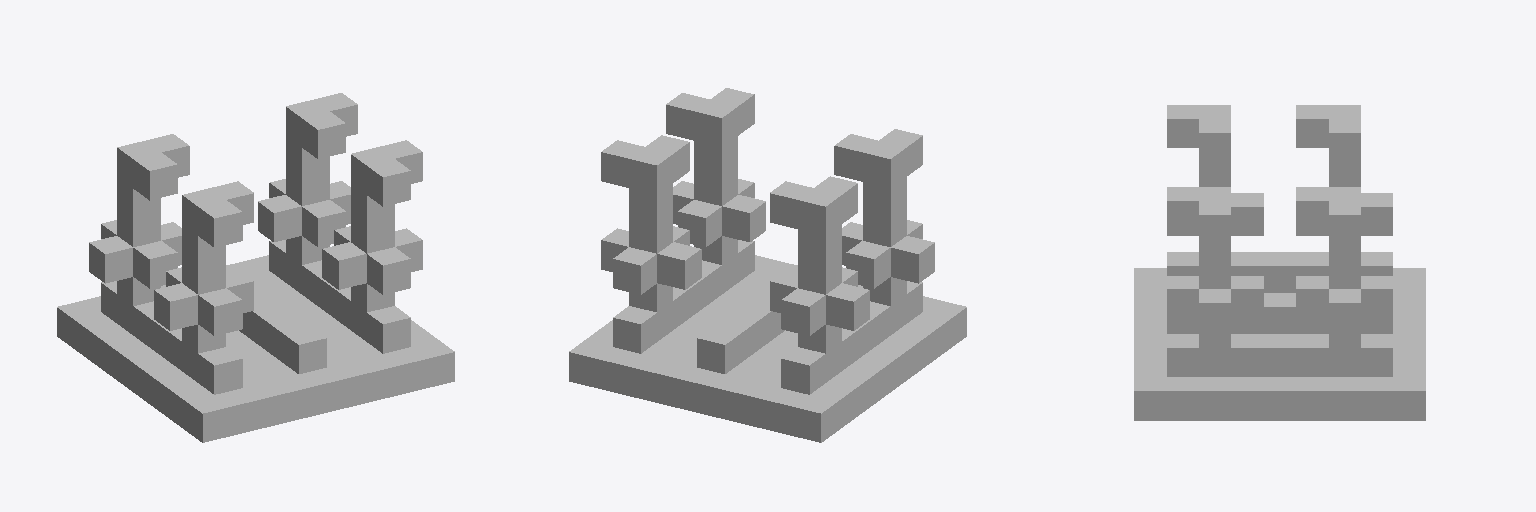
File: Beet 3.obj
The picture shows the model from 3 angles: view 1: azimuth 30°, elevation 25°; view 2: azimuth 150°, elevation 25°; view 3: azimuth 270°, elevation 25°; orthographic projection.
Visible parts, largest first — view 1: object 1; view 2: object 1; view 3: object 1.
Boxes of the visible parts, box(x1,y1,x2,y2) form: object 1: box(57, 93, 454, 442); object 1: box(569, 88, 966, 442); object 1: box(1134, 105, 1425, 420).
Bounding box in the file's own units: 0.9 × 0.7 × 0.9.